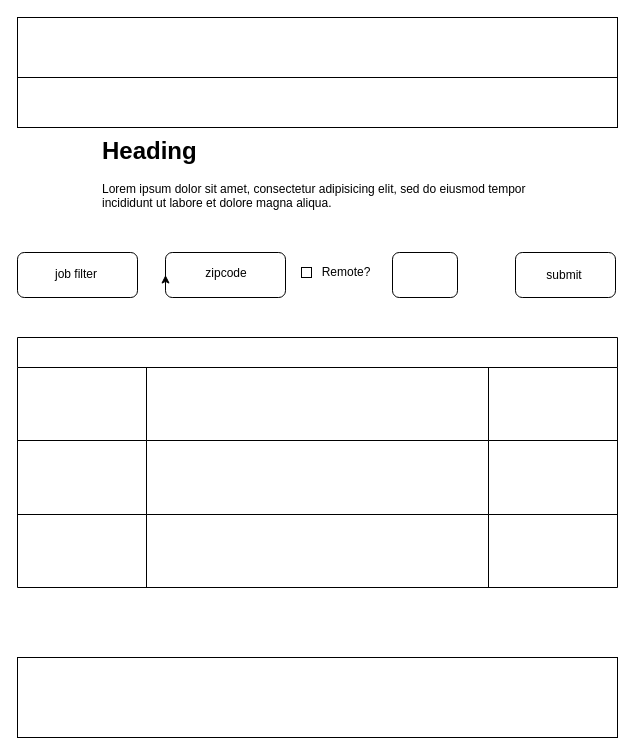
This 635x755 diagram has some shape labels left out. The centre of each missing label's shape, as x and y in pixels:
range: the point at 425,275
Table: the point at 317,462
